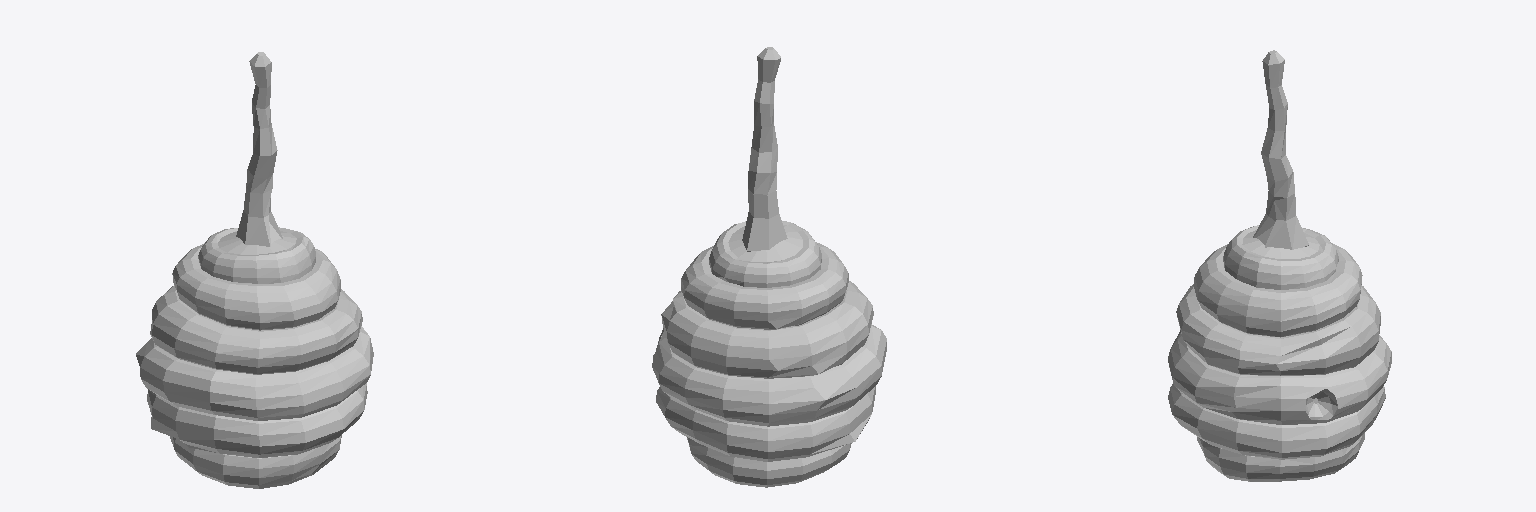
The model's file is HiveWStem.obj.
The picture shows the model from 3 angles: view 1: azimuth 30°, elevation 25°; view 2: azimuth 150°, elevation 25°; view 3: azimuth 270°, elevation 25°; orthographic projection.
Bounding box in the file's own units: 1.2 × 2.27 × 1.13.